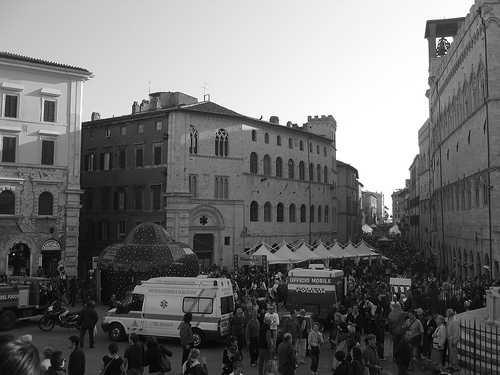car: (100, 274, 237, 347)
